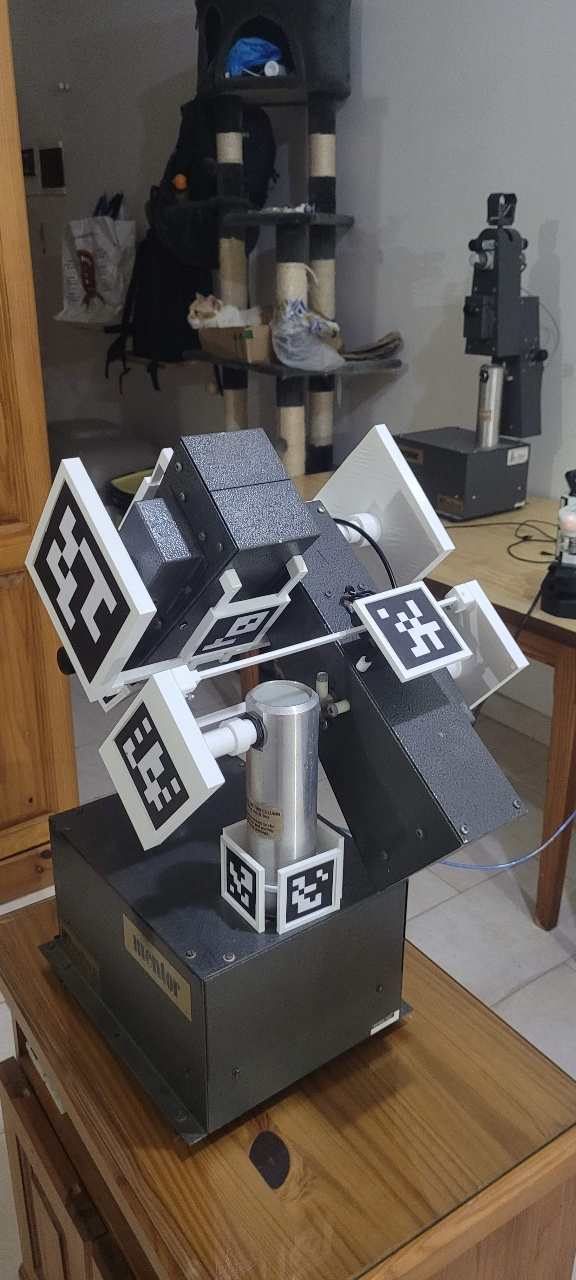Robot: (21, 421, 536, 940)
